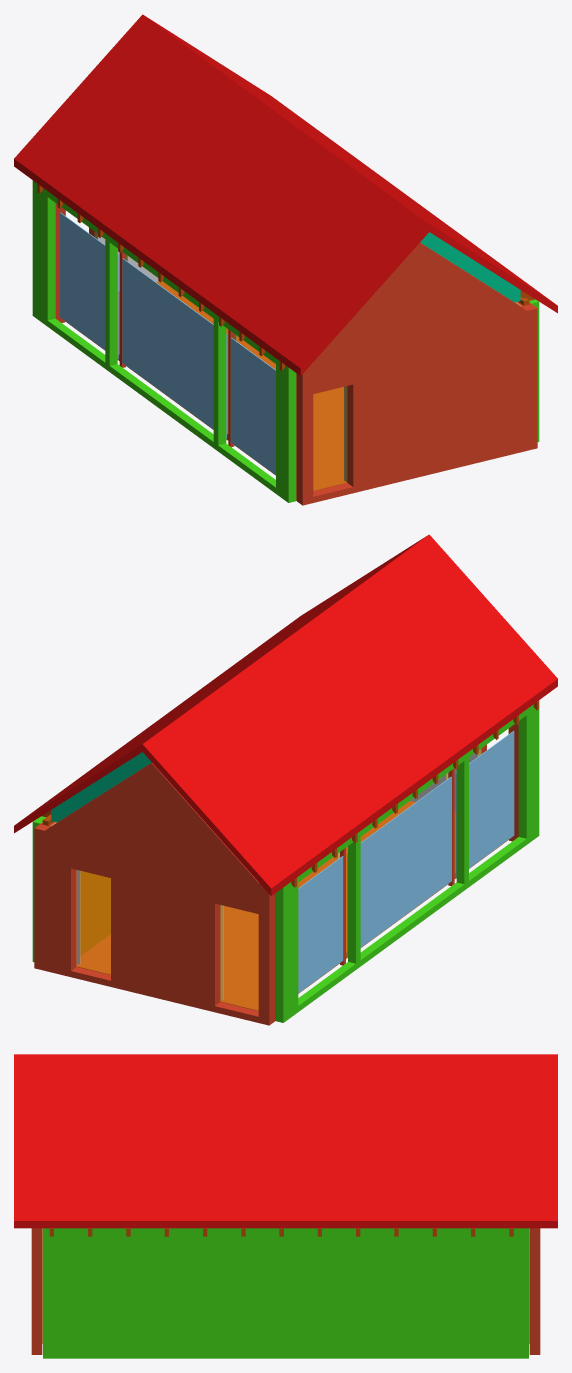
File: obyvak.glb
The picture shows the model from 3 angles, top to bottom: view 1: azimuth 30°, elevation 25°; view 2: azimuth 150°, elevation 25°; view 3: azimuth 270°, elevation 25°; orthographic projection. The views are drawn at different scales.
Visible parts, largest first — view 1: roofing, masonry (×2), glazing (×3), eps, floor, plenum_wool; view 2: roofing, masonry (×2), glazing (×3), eps, floor, furniture, plenum_wool; view 3: roofing, eps, masonry (×2).
Boxes of the visible parts, <box> form: roofing: <box>14,14,557,376</box>; masonry (×2): <box>55,203,537,505</box>; glazing (×3): <box>60,212,275,474</box>; eps: <box>32,180,296,502</box>; floor: <box>65,281,346,490</box>; plenum_wool: <box>420,232,520,302</box>; roofing: <box>14,534,557,896</box>; masonry (×2): <box>34,724,518,1025</box>; glazing (×3): <box>298,731,514,993</box>; eps: <box>275,704,539,1022</box>; floor: <box>77,801,508,1010</box>; furniture: <box>80,871,110,955</box>; plenum_wool: <box>51,752,151,822</box>; roofing: <box>14,1054,557,1228</box>; eps: <box>43,1228,528,1358</box>; masonry (×2): <box>31,1228,540,1354</box>.
Size of the model in its own units: 6.44 by 6.21 by 12.43.
